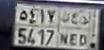1: (37, 9, 44, 46)
4: (27, 8, 36, 45)
5: (17, 9, 27, 45)
7: (45, 9, 55, 46)
D: (78, 14, 88, 47)
E: (70, 11, 77, 47)
N: (59, 11, 69, 46)
